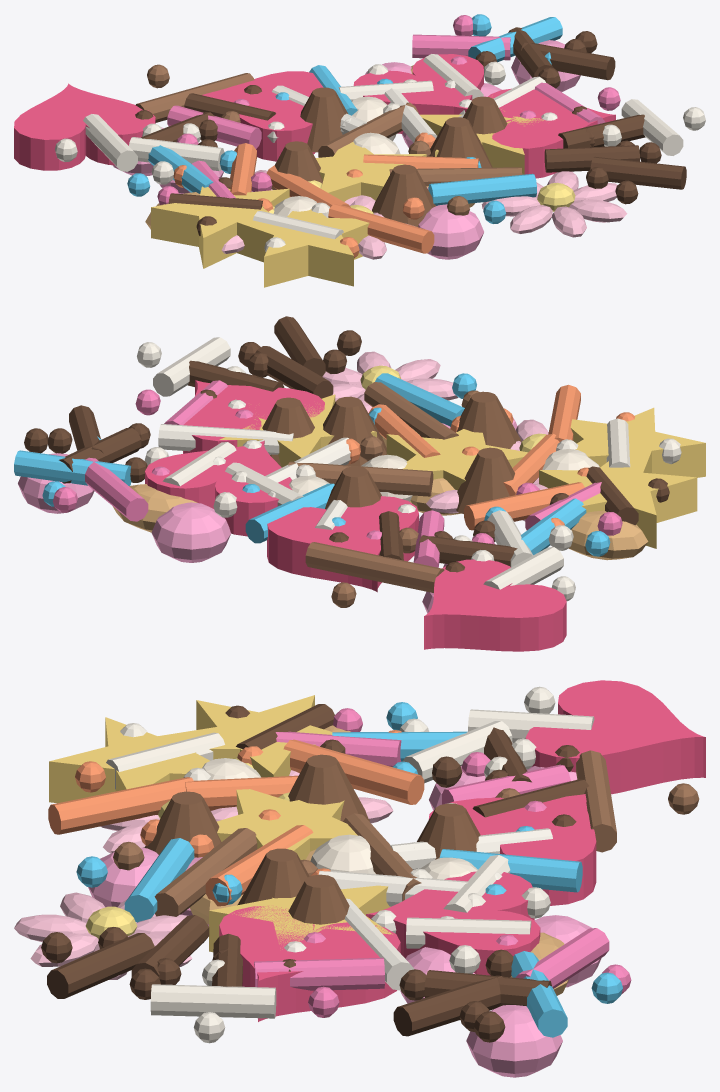
The model's file is toppings_heart_4_tier.glb.
3 renders of one model, top to bottom at view 1: azimuth 30°, elevation 25°; view 2: azimuth 150°, elevation 25°; view 3: azimuth 270°, elevation 25°, orthographic. The views are drawn at different scales.
Visible parts, largest first — view 1: ToppingHeart_heart_4_03, ToppingStar_heart_4_00, ToppingStar_heart_4_03, ToppingHeart_heart_4_01, ToppingHeart_heart_4_02, ToppingHeart_heart_4_00, ToppingStar_heart_4_02, ToppingDot_heart_4_00, ToppingSprinkle_heart_4_01_Body, ToppingChocolateChip_heart_4_04, ToppingSprinkle_heart_4_07_Body, ToppingChocolateSprinkle_heart_4_00_Body (+50 smaller); view 2: ToppingHeart_heart_4_03, ToppingHeart_heart_4_01, ToppingHeart_heart_4_00, ToppingStar_heart_4_03, ToppingStar_heart_4_00, ToppingHeart_heart_4_02, ToppingDot_heart_4_02, ToppingSprinkle_heart_4_09_Body, ToppingStar_heart_4_02, ToppingChocolateChip_heart_4_03, ToppingSprinkle_heart_4_16_Body, ToppingChocolateChip_heart_4_04 (+42 smaller); view 3: ToppingHeart_heart_4_03, ToppingHeart_heart_4_02, ToppingHeart_heart_4_00, ToppingHeart_heart_4_01, ToppingStar_heart_4_00, ToppingStar_heart_4_02, ToppingStar_heart_4_03, ToppingDot_heart_4_04, ToppingSprinkle_heart_4_07_Body, ToppingWhiteSprinkle_heart_4_00_Body, ToppingStar_heart_4_01, ToppingSprinkle_heart_4_12_Body (+63 smaller).
Boxes of the visible parts, x1,y1,x2,y2 form: ToppingHeart_heart_4_03: (14, 83, 155, 170); ToppingStar_heart_4_00: (236, 209, 369, 287); ToppingStar_heart_4_03: (151, 186, 289, 268); ToppingHeart_heart_4_01: (202, 71, 323, 161); ToppingHeart_heart_4_02: (488, 88, 615, 178); ToppingHeart_heart_4_00: (353, 54, 483, 133); ToppingStar_heart_4_02: (315, 142, 426, 201); ToppingDot_heart_4_00: (418, 204, 483, 259); ToppingSprinkle_heart_4_01_Body: (428, 173, 536, 205); ToppingChocolateChip_heart_4_04: (372, 164, 435, 226); ToppingSprinkle_heart_4_07_Body: (328, 204, 434, 253); ToppingChocolateSprinkle_heart_4_00_Body: (590, 156, 686, 189); ToppingHeart_heart_4_03: (424, 559, 566, 651); ToppingHeart_heart_4_01: (267, 496, 418, 592); ToppingHeart_heart_4_00: (145, 440, 292, 536); ToppingStar_heart_4_03: (539, 461, 697, 548); ToppingStar_heart_4_00: (570, 407, 705, 477); ToppingHeart_heart_4_02: (183, 380, 324, 453); ToppingDot_heart_4_02: (151, 502, 230, 562); ToppingSprinkle_heart_4_09_Body: (305, 542, 444, 592); ToppingStar_heart_4_02: (386, 429, 527, 502); ToppingChocolateChip_heart_4_03: (456, 447, 514, 513); ToppingSprinkle_heart_4_16_Body: (14, 450, 131, 485); ToppingChocolateChip_heart_4_04: (456, 391, 521, 448); ToppingHeart_heart_4_03: (525, 680, 705, 794); ToppingHeart_heart_4_02: (219, 906, 400, 1021); ToppingHeart_heart_4_00: (366, 871, 540, 975); ToppingHeart_heart_4_01: (428, 794, 596, 905); ToppingStar_heart_4_00: (49, 717, 221, 803); ToppingStar_heart_4_02: (217, 789, 357, 859); ToppingStar_heart_4_03: (196, 695, 332, 777); ToppingDot_heart_4_04: (466, 1005, 562, 1077); ToppingSprinkle_heart_4_07_Body: (48, 777, 193, 834); ToppingWhiteSprinkle_heart_4_00_Body: (150, 984, 276, 1018); ToppingStar_heart_4_01: (209, 885, 392, 952); ToppingSprinkle_heart_4_12_Body: (283, 739, 424, 804).
Bounding box in the file's own units: 0.7284 × 0.0993 × 0.6143.
